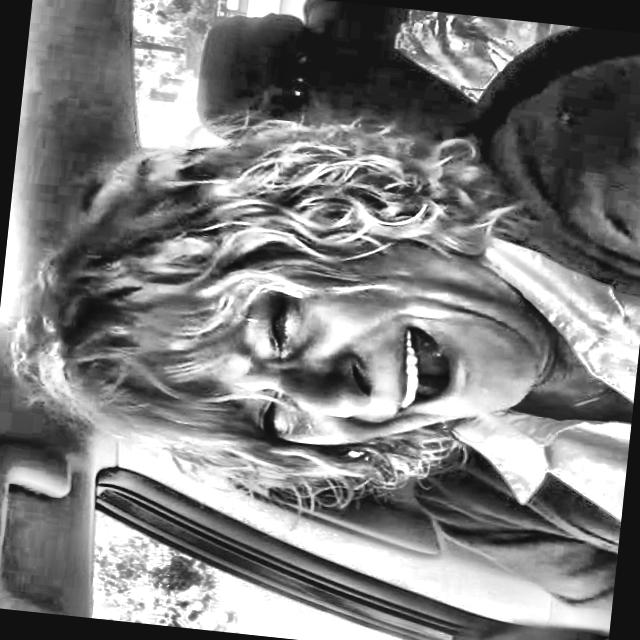closed_eyes: (255, 283, 310, 361), (248, 386, 299, 452)
open_mouth: (380, 308, 474, 437)
